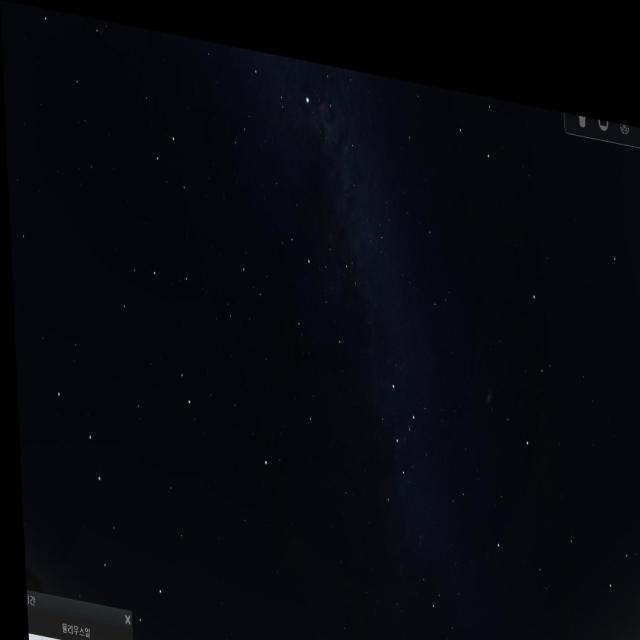cassiopeia: (368, 344, 418, 506)
ursa_major: (50, 388, 164, 628)
